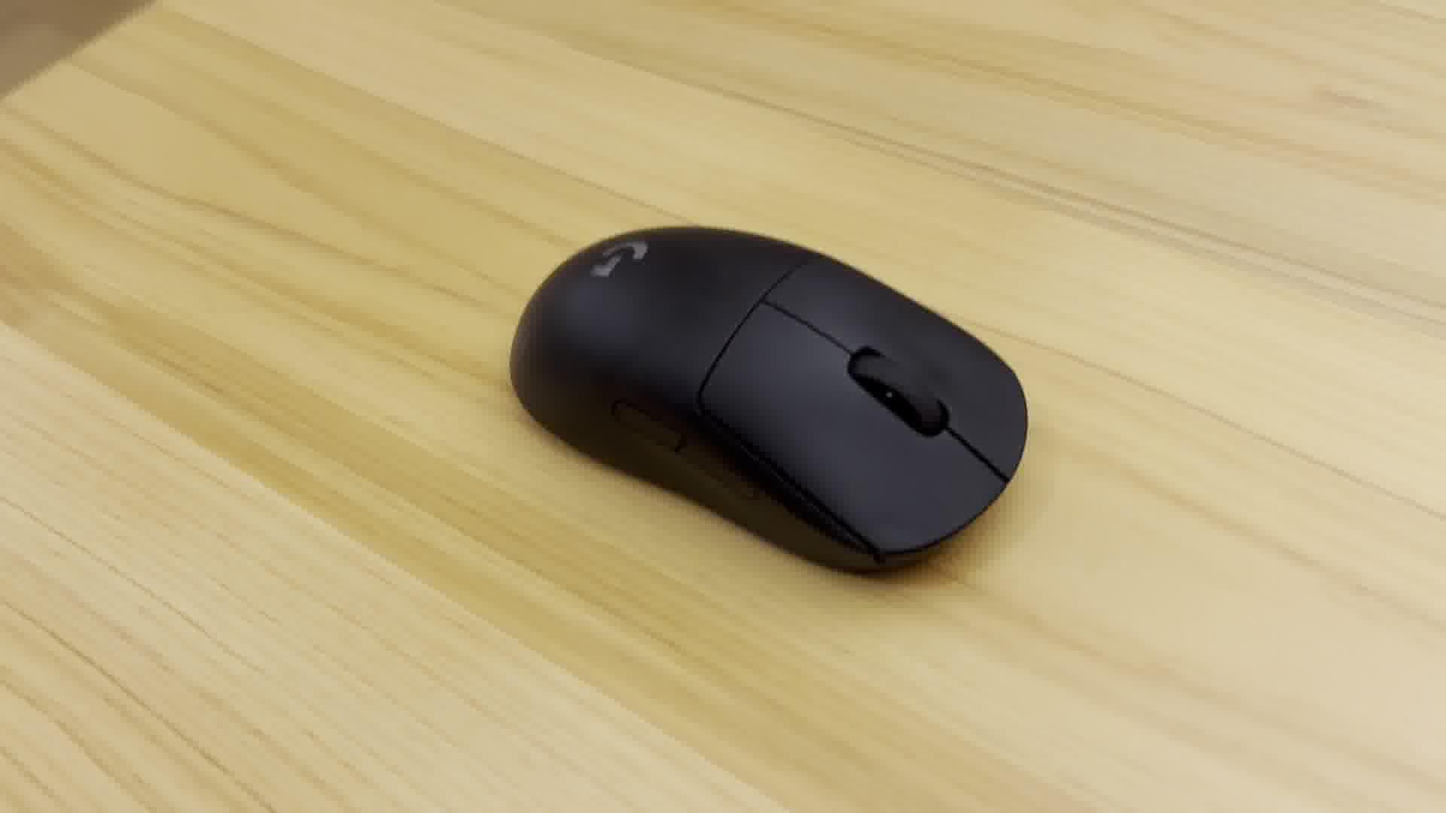mouse: (505, 215, 1042, 594)
